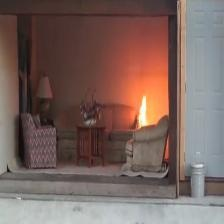fire: (131, 91, 158, 131)
